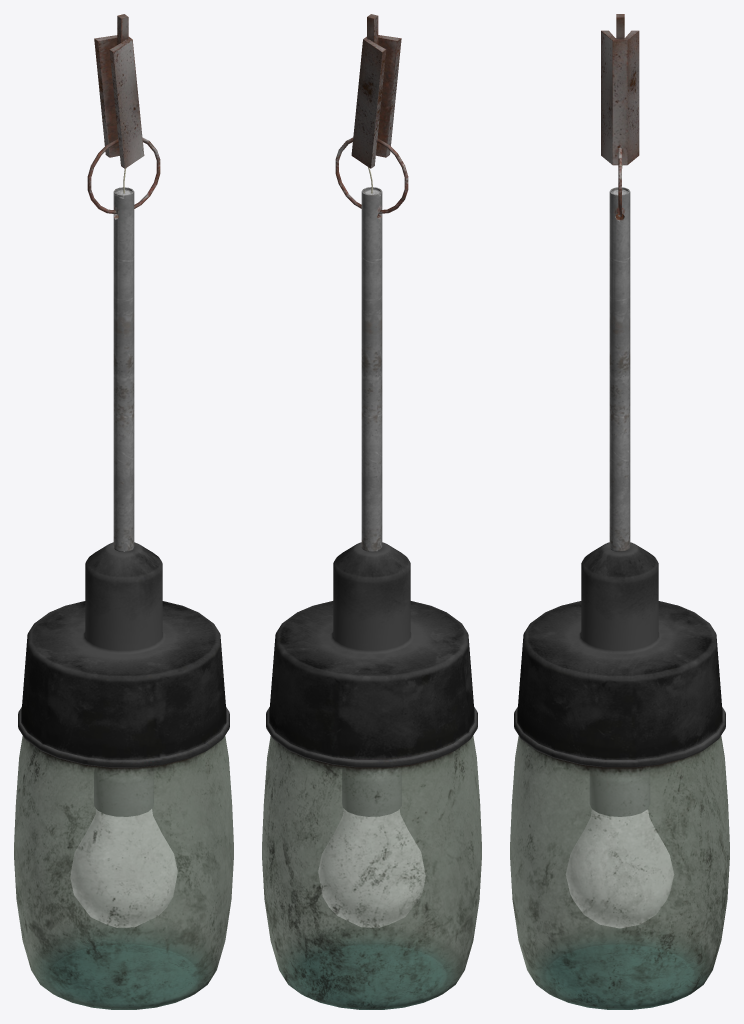
The model's file is old_glass_ceilling_lamp.glb.
3 views of the same model, side by side, from view 1: azimuth 30°, elevation 25°; view 2: azimuth 150°, elevation 25°; view 3: azimuth 270°, elevation 25° (orthographic).
Visible parts, largest first — view 1: Glass, Cover, Bulb, MetalBar, WireCover, BulbShell, Ring; view 2: Glass, Cover, Bulb, MetalBar, WireCover, BulbShell, Ring; view 3: Glass, Cover, Bulb, MetalBar, WireCover, BulbShell.
Part boxes in pixels (x1,y1,x2,y2): Glass: [14, 736, 233, 1009]; Cover: [18, 542, 229, 767]; Bulb: [70, 809, 177, 927]; MetalBar: [113, 187, 134, 551]; WireCover: [94, 35, 144, 168]; BulbShell: [94, 768, 153, 816]; Ring: [87, 137, 160, 214]; Glass: [262, 736, 481, 1009]; Cover: [266, 542, 477, 767]; Bulb: [318, 809, 425, 927]; MetalBar: [361, 187, 382, 551]; WireCover: [351, 35, 401, 168]; BulbShell: [342, 769, 401, 816]; Ring: [335, 137, 408, 213]; Glass: [510, 736, 729, 1009]; Cover: [514, 542, 725, 767]; Bulb: [566, 809, 673, 928]; MetalBar: [609, 187, 630, 551]; WireCover: [601, 30, 639, 165]; BulbShell: [590, 769, 649, 816].
Size of the model in its own units: 10.48 by 50.47 by 10.48.
Materials: 1 (1 with a texture image).
